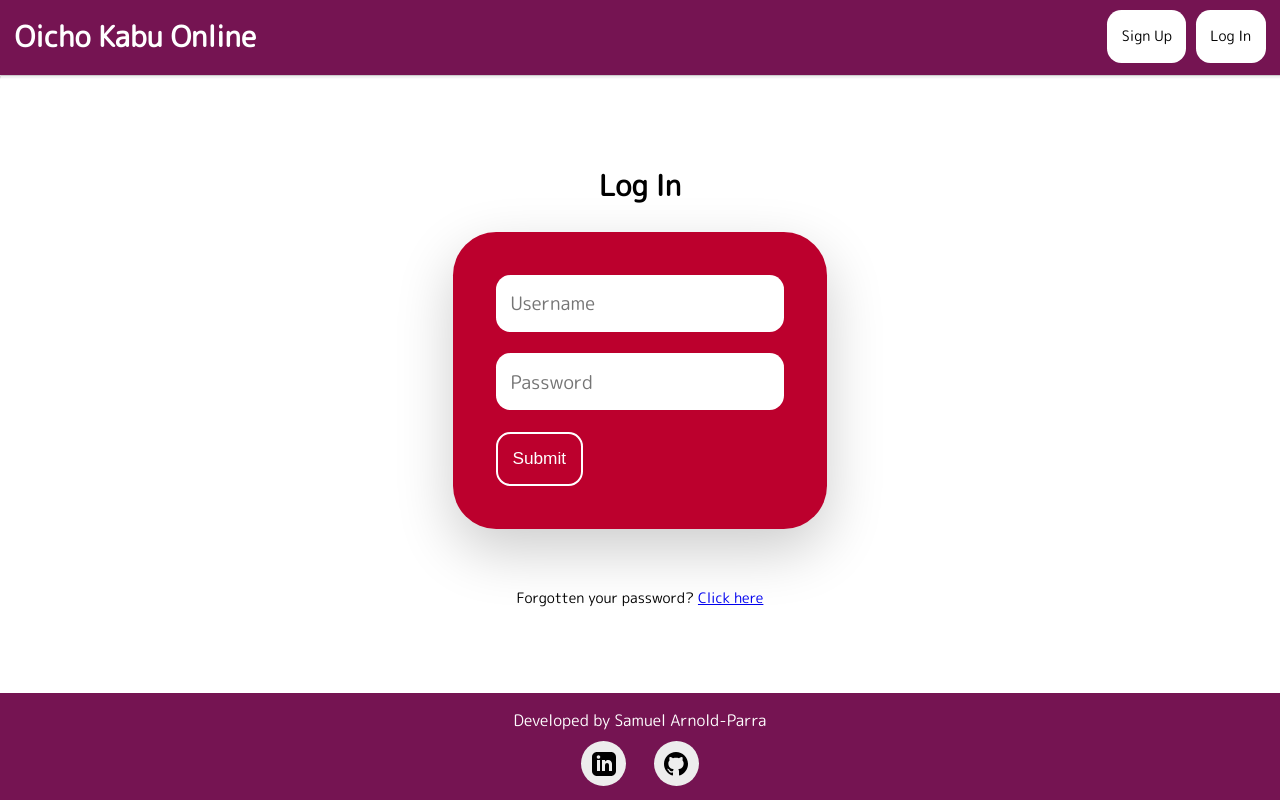
Test: Login › goes to forgot password page on link click
Click the link "Click here".
click(731, 598)  # box 698,588 -> 763,608
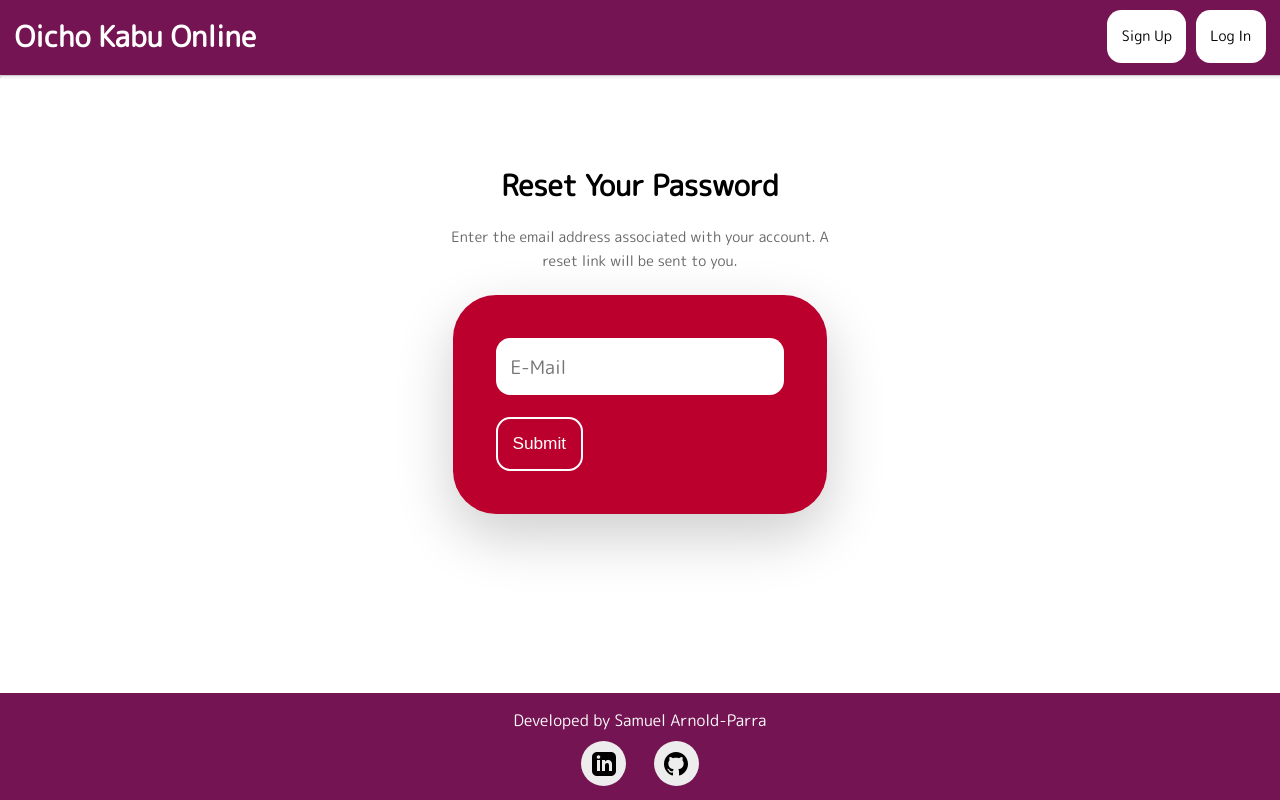
Now the heading "Reset Your Password" is shown, box 501,165 -> 779,205
